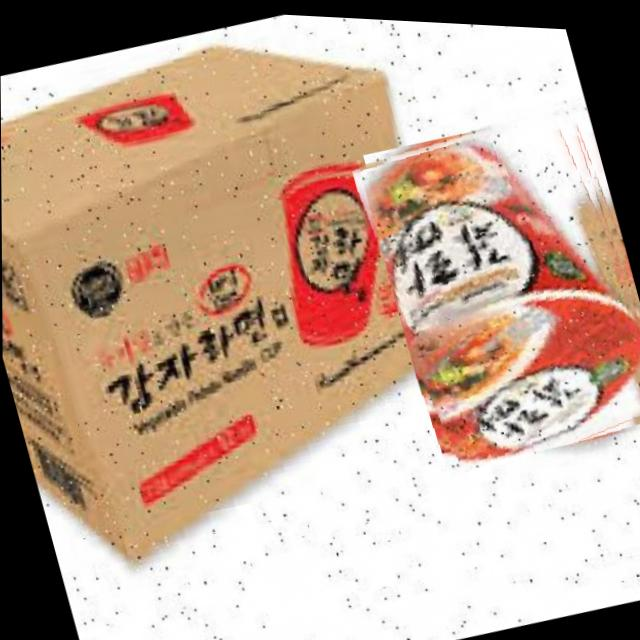Miscellaneous: (352, 84, 640, 474)
